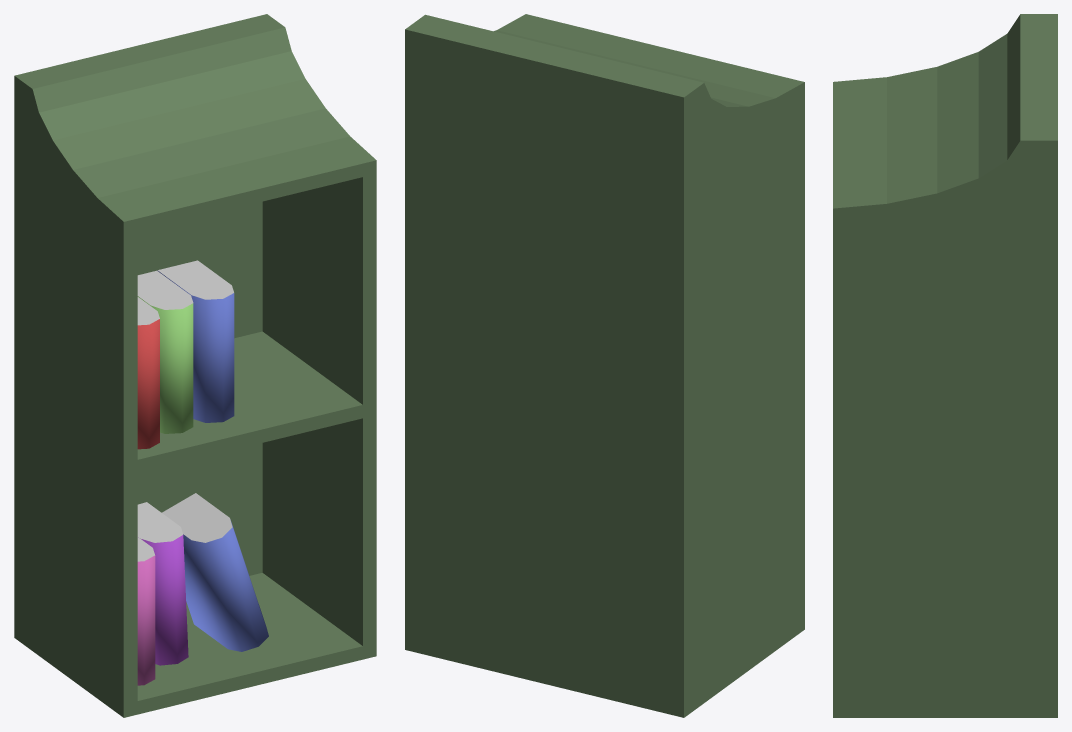
Rendered from bookshelf_01.fbx.
3 renders of one model, left to right at view 1: azimuth 30°, elevation 25°; view 2: azimuth 150°, elevation 25°; view 3: azimuth 270°, elevation 25°, orthographic. The views are drawn at different scales.
Visible parts, largest first — view 1: bookshelf_01; view 2: bookshelf_01; view 3: bookshelf_01.
Boxes of the visible parts, x1,y1,x2,y2 form: bookshelf_01: (14, 14, 376, 717); bookshelf_01: (405, 14, 804, 717); bookshelf_01: (833, 14, 1057, 717).
Bounding box in the file's own units: 86.3 × 183 × 64.72.
